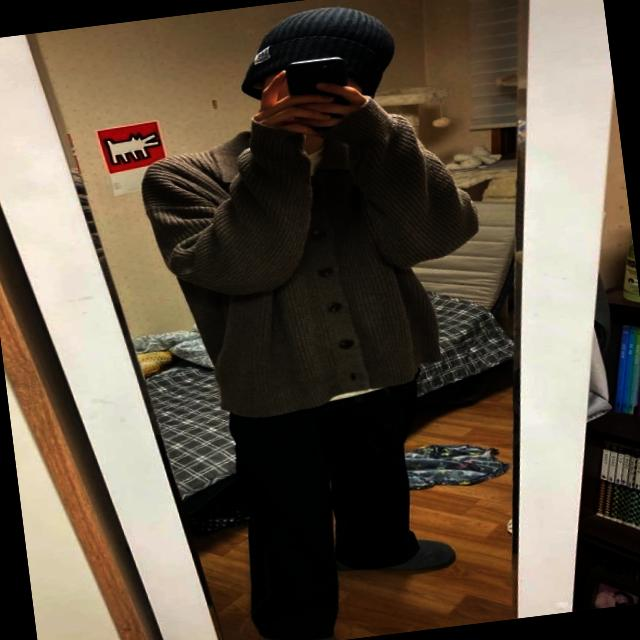cardigan: (136, 94, 497, 430)
slacks: (219, 368, 438, 640)
